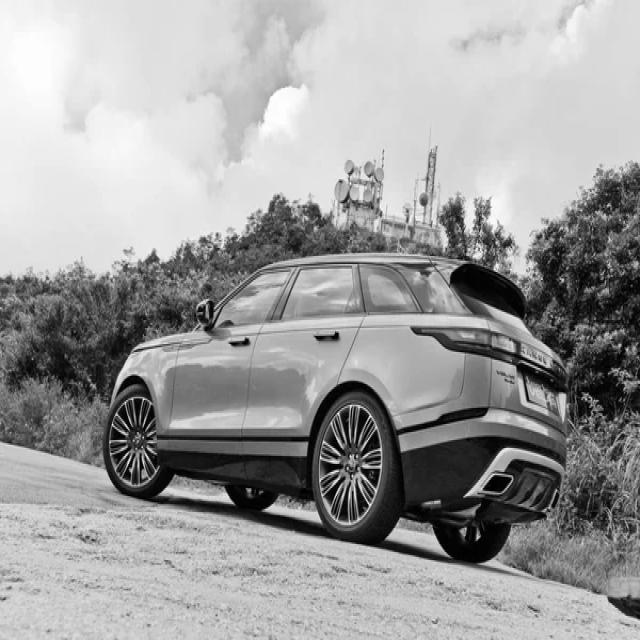Car: (104, 255, 568, 562)
